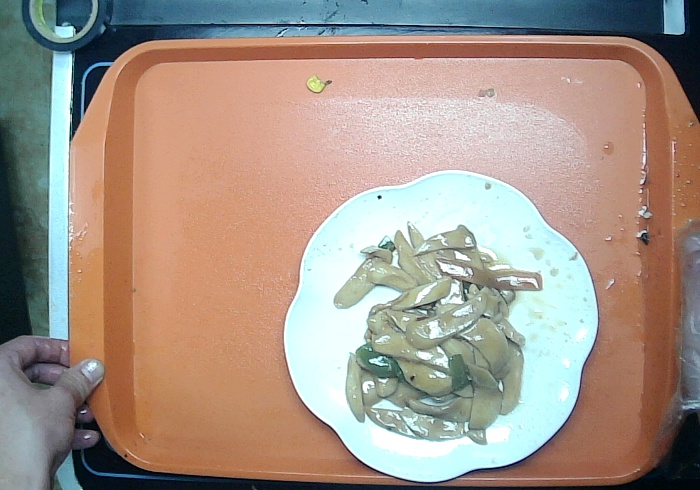HZYJPL-Bai_Se_Hua_Duo_Wan: (276, 159, 608, 490)
